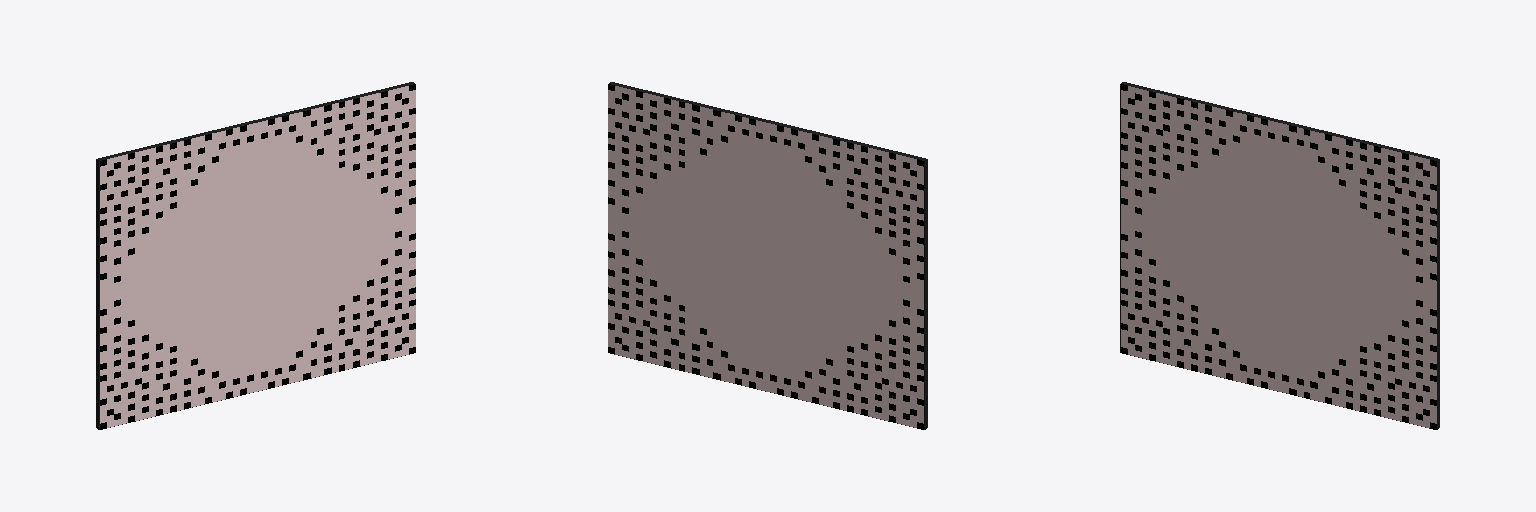
The picture shows the model from 3 angles: view 1: azimuth 30°, elevation 25°; view 2: azimuth 150°, elevation 25°; view 3: azimuth 330°, elevation 25°; orthographic projection.
Parts seen in each view (by area): view 1: Cube; view 2: Cube; view 3: Cube.
Boxes of the visible parts, box(x1,y1,x2,y2) form: Cube: box(96, 82, 415, 429); Cube: box(608, 82, 927, 429); Cube: box(1120, 82, 1439, 429).
Bounding box in the file's own units: 1.29 × 1.05 × 0.02.
Materials: 1 (1 with a texture image).